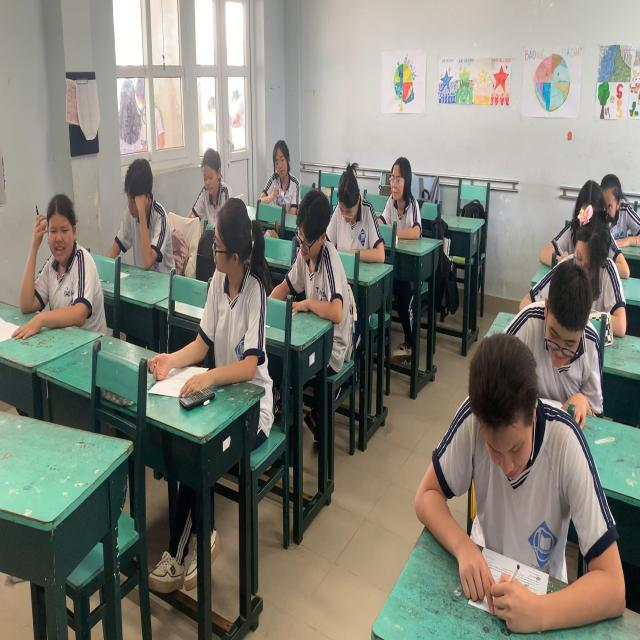cheating: (204, 198, 270, 364)
not_cheating: (426, 336, 558, 592), (22, 194, 100, 326), (530, 277, 594, 412), (113, 150, 171, 278), (296, 192, 345, 326), (331, 160, 381, 257), (370, 146, 422, 239), (261, 132, 306, 212), (191, 150, 240, 209), (570, 222, 603, 278)
